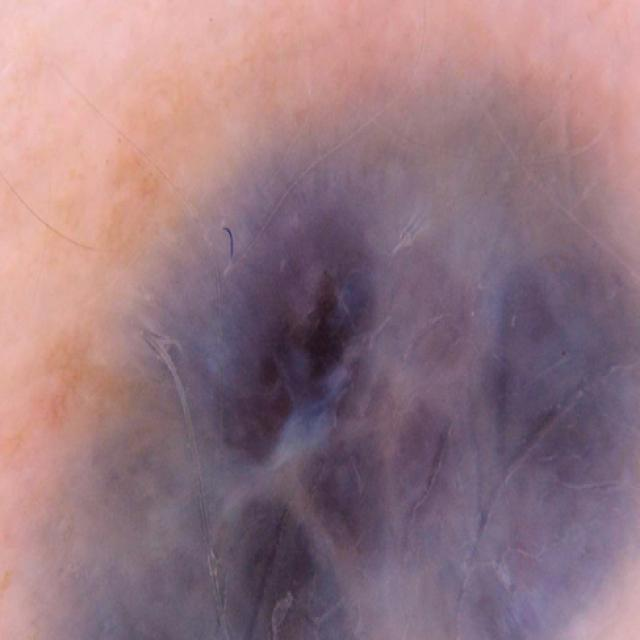Vascular Lesions: (0, 104, 640, 640)
